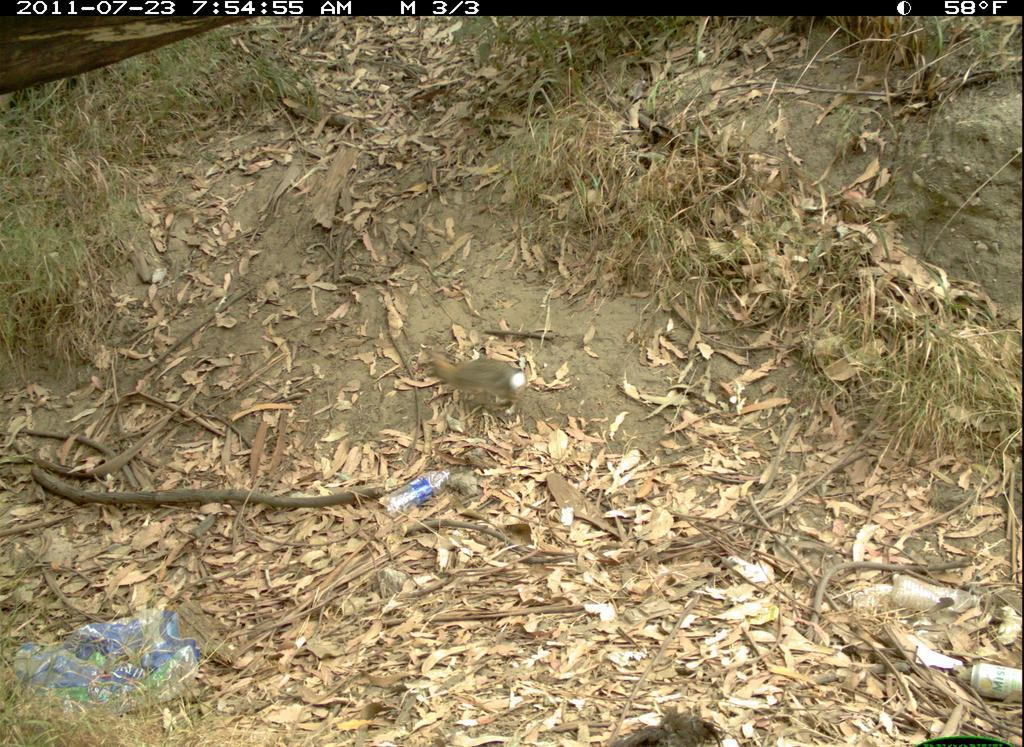rabbit: (420, 340, 569, 436)
